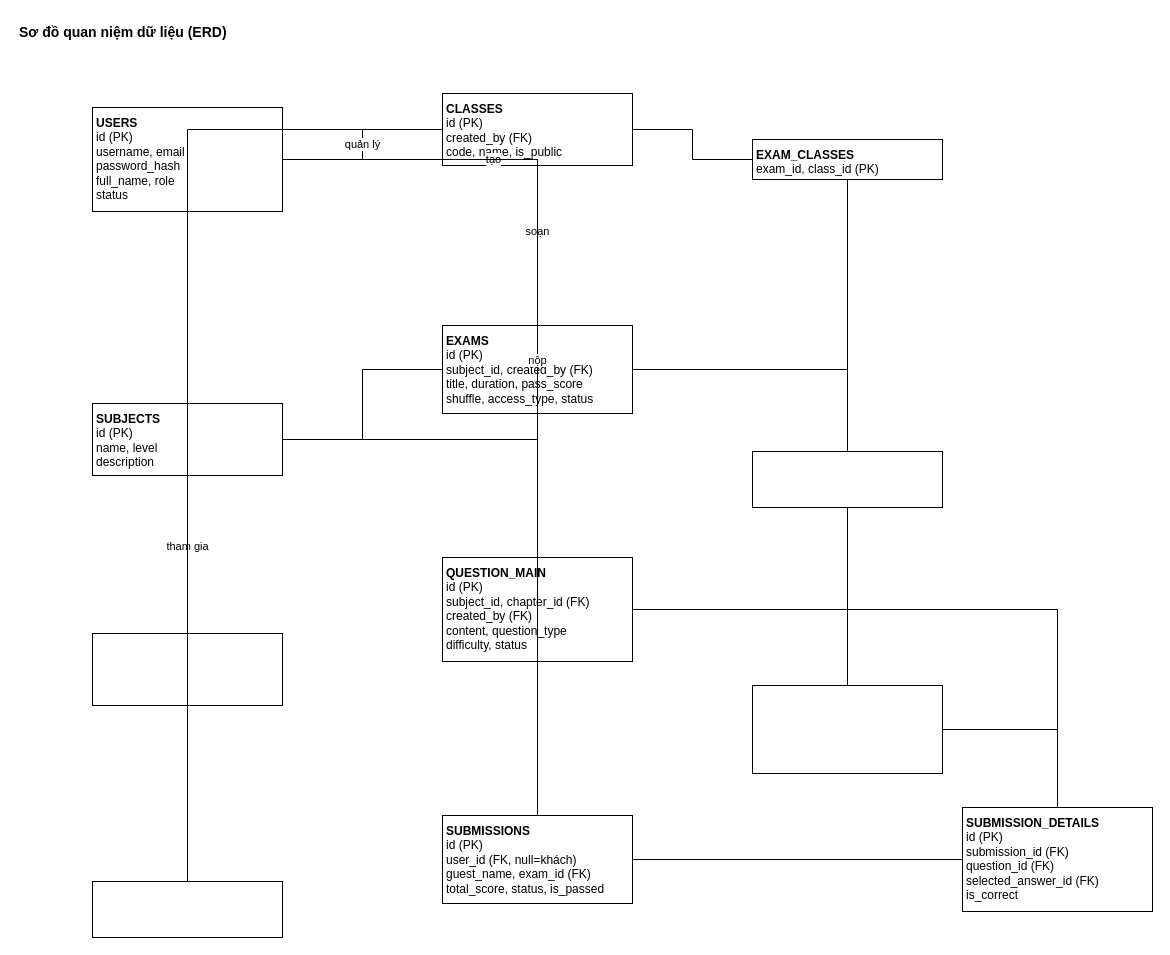
Image size: 1170x955. Some labels were removed from this diagram. Each missing label, with the box of its shape:
ANSWERS id (PK) question_id (FK) label, content is_correct: (752, 684, 942, 774)
CHAPTERS id (PK) subject_id (FK) name, order_index: (92, 632, 282, 706)
CLASS_STUDENTS class_id, student_id (PK) joined_at: (92, 880, 282, 938)
EXAM_QUESTIONS exam_id, question_id (PK) order_index, points: (752, 450, 942, 508)
